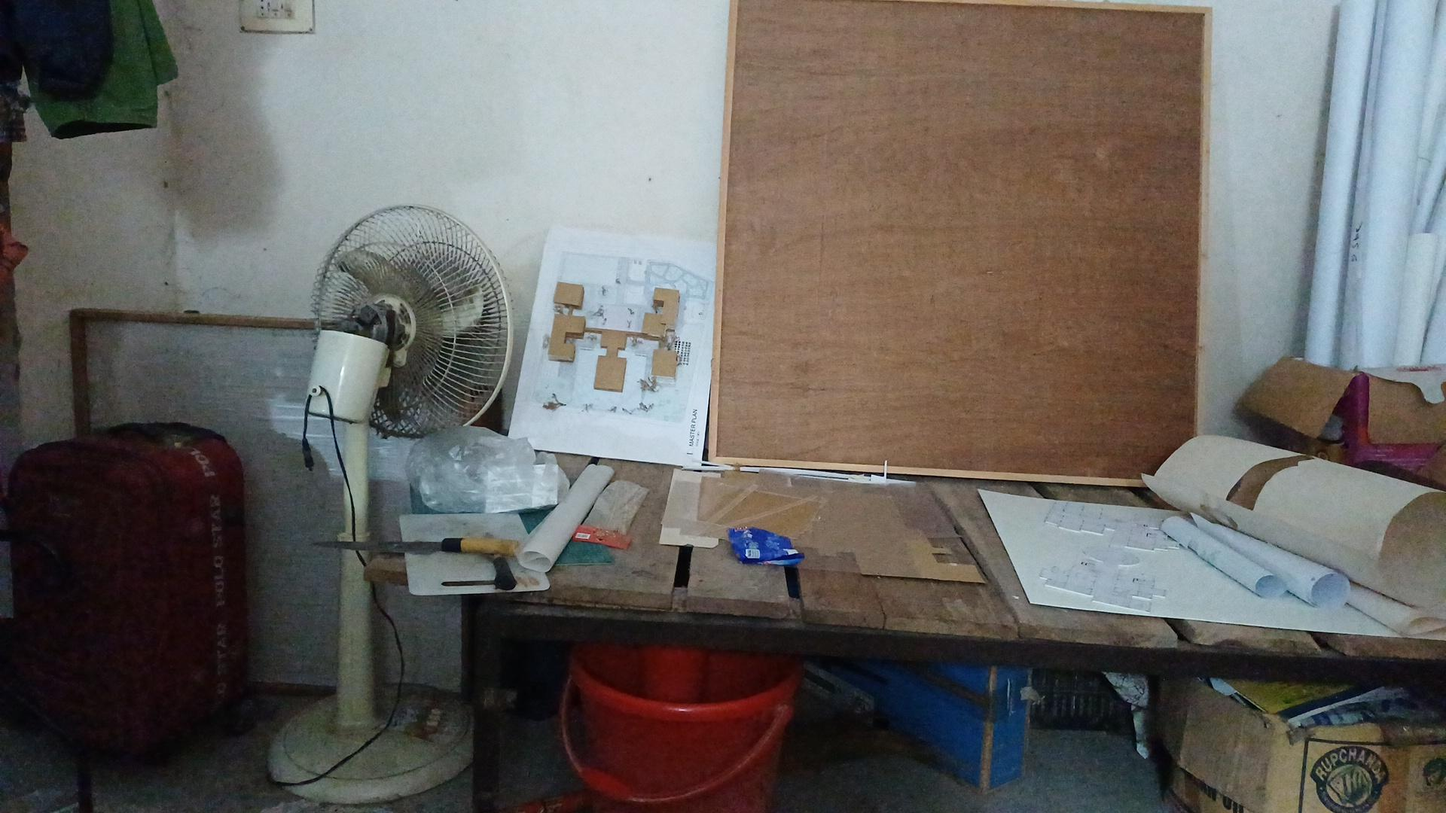Box: (1158, 653, 1446, 813)
Bucket: (524, 627, 813, 813)
Fan: (260, 189, 519, 462)
Knife: (302, 519, 542, 598)
Photo: (532, 217, 737, 480)
